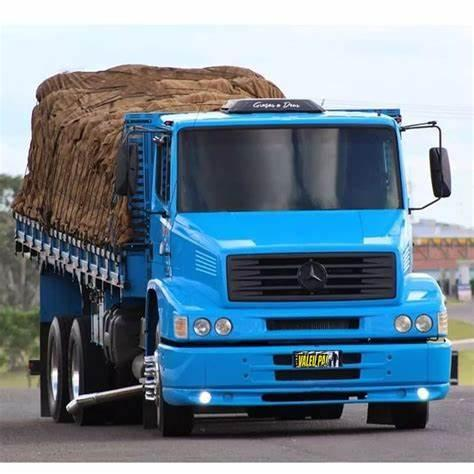placa de veiculo: (278, 344, 343, 375)
